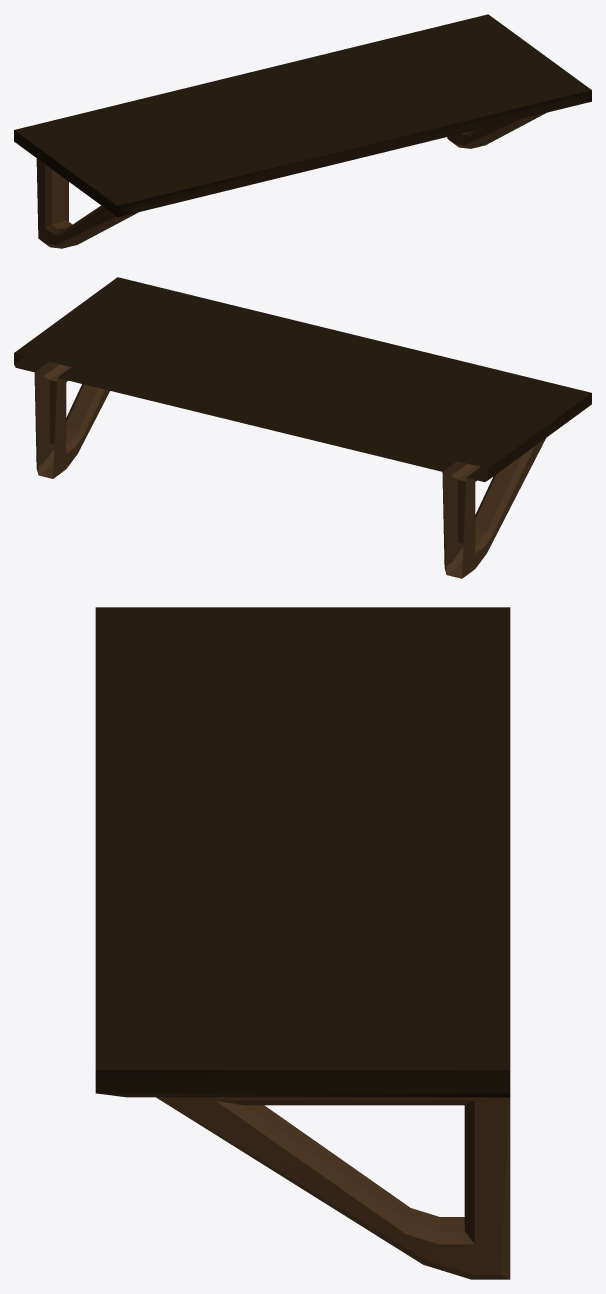
The model's file is SM_Etagere.fbx.
3 renders of one model, top to bottom at view 1: azimuth 30°, elevation 25°; view 2: azimuth 150°, elevation 25°; view 3: azimuth 270°, elevation 25°, orthographic. The views are drawn at different scales.
Visible parts, largest first — view 1: SM_Etagere; view 2: SM_Etagere; view 3: SM_Etagere.
Part boxes in pixels (box(x1,y1,x2,y2)): SM_Etagere: box(14, 14, 591, 248); SM_Etagere: box(14, 277, 591, 578); SM_Etagere: box(95, 607, 510, 1279).
Size of the model in its own units: 80.92 by 18.99 by 30.63.
